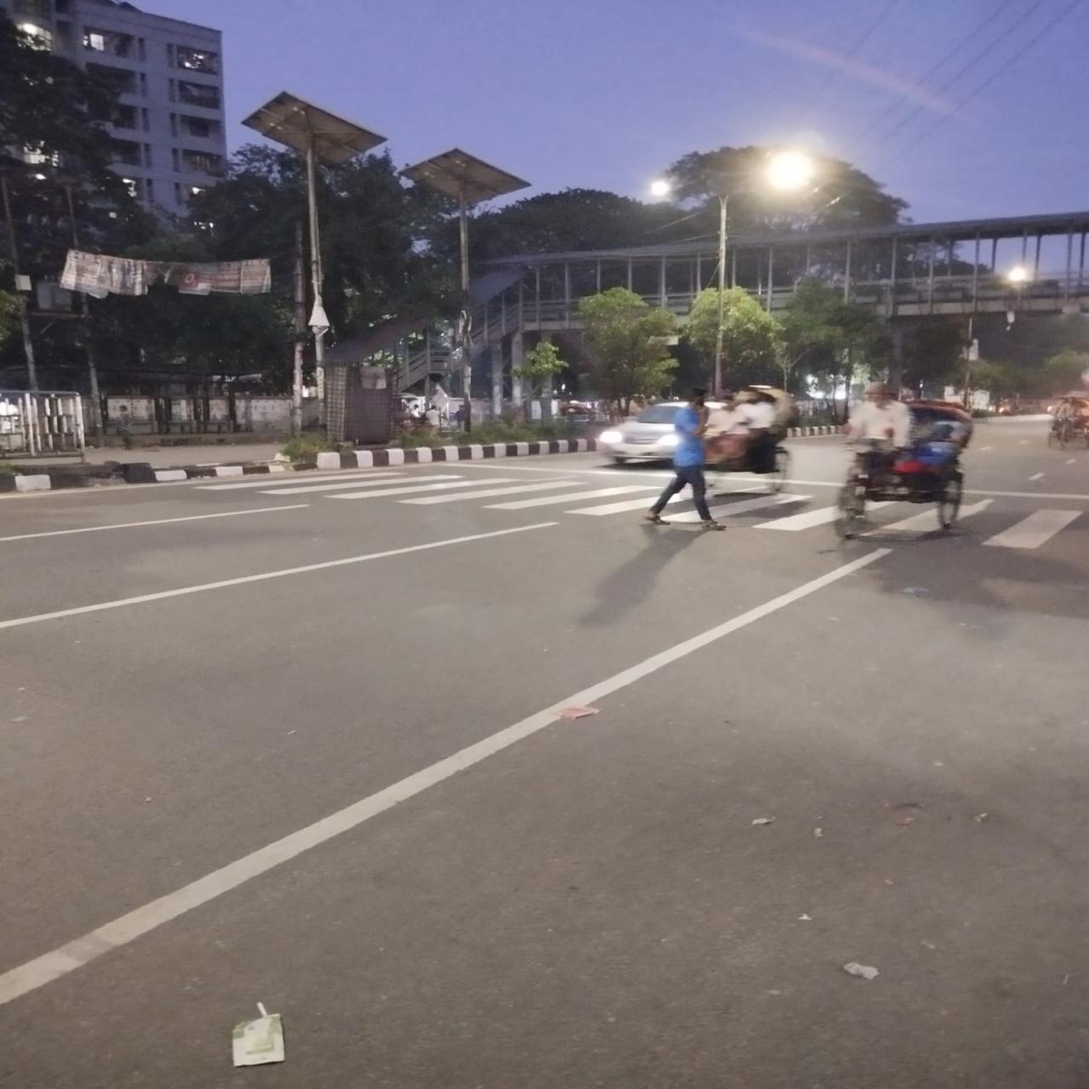person: (657, 377, 727, 528)
